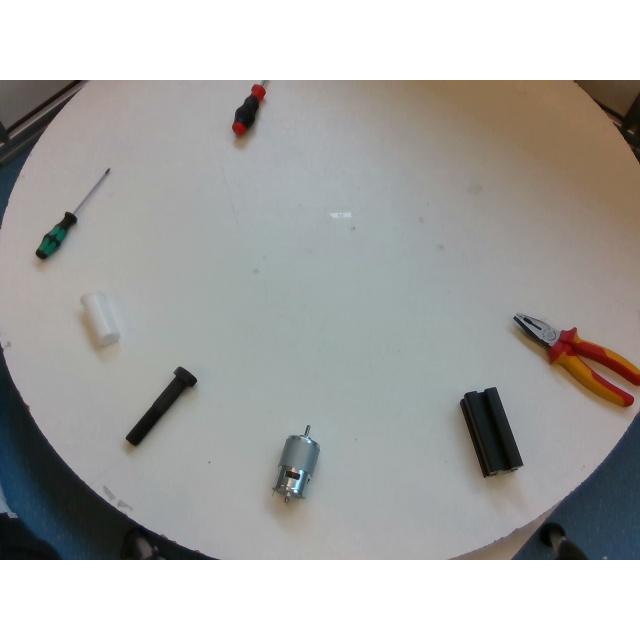M20_100: (125, 366, 197, 446)
Motor2: (274, 425, 318, 501)
S40_40_B: (460, 388, 522, 477)
Screwdriver: (34, 168, 110, 260)
Spacer: (81, 294, 119, 346)
